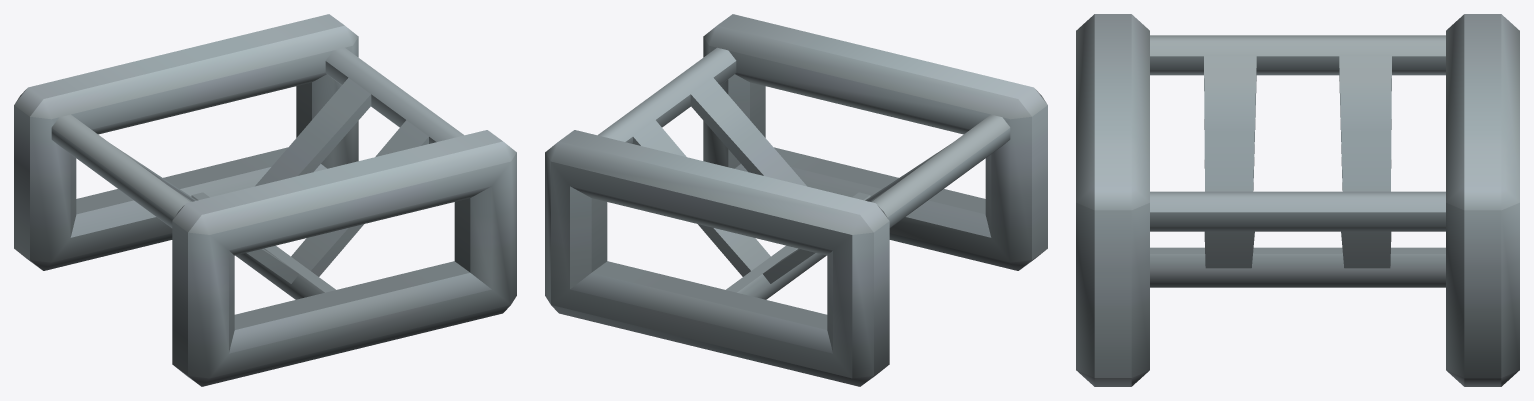
File: kkr.dishrack.glb
The picture shows the model from 3 angles, left to right: view 1: azimuth 30°, elevation 25°; view 2: azimuth 150°, elevation 25°; view 3: azimuth 270°, elevation 25°; orthographic projection. The views are drawn at different scales.
Parts seen in each view (by area): view 1: dishrack; view 2: dishrack; view 3: dishrack.
Boxes of the visible parts, box(x1,y1,x2,y2) form: dishrack: box(14, 14, 516, 386); dishrack: box(545, 14, 1047, 386); dishrack: box(1076, 14, 1519, 386).
Size of the model in its own units: 0.3308 by 0.1654 by 0.3308.
Materials: 1 (1 with a texture image).
